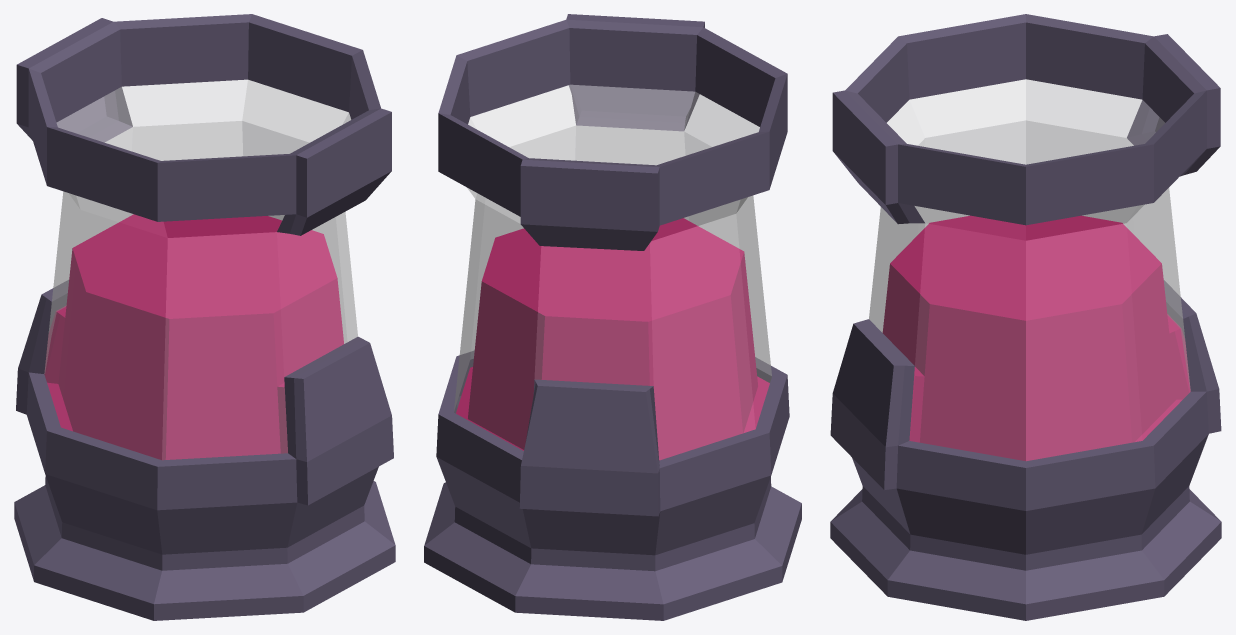
The model's file is cocktail_003.fbx.
The picture shows the model from 3 angles, left to right: view 1: azimuth 30°, elevation 25°; view 2: azimuth 150°, elevation 25°; view 3: azimuth 270°, elevation 25°; orthographic projection.
Visible parts, largest first — view 1: cup, drink; view 2: cup, drink; view 3: cup, drink.
Part boxes in pixels (bbox=[...]): cup: bbox=[14, 14, 395, 620]; drink: bbox=[44, 214, 343, 460]; cup: bbox=[424, 14, 801, 620]; drink: bbox=[456, 218, 769, 460]; cup: bbox=[830, 14, 1221, 620]; drink: bbox=[882, 215, 1190, 460].
Size of the model in its own units: 44.7 by 56.48 by 44.7.
